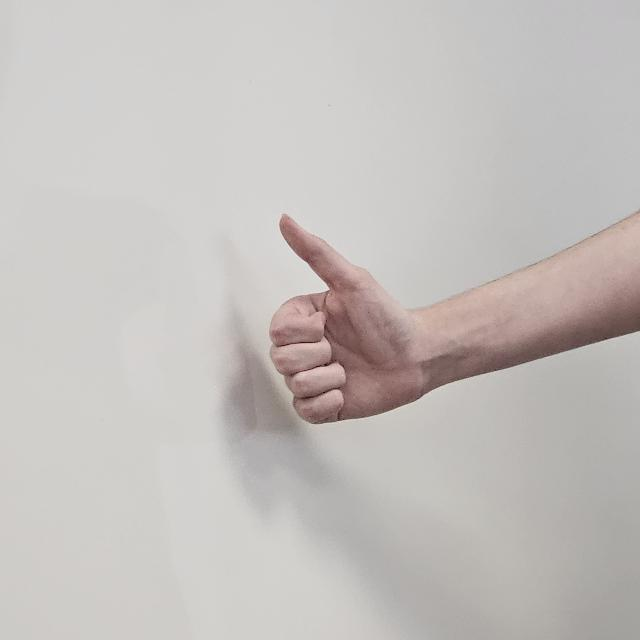Start: (264, 213, 428, 449)
